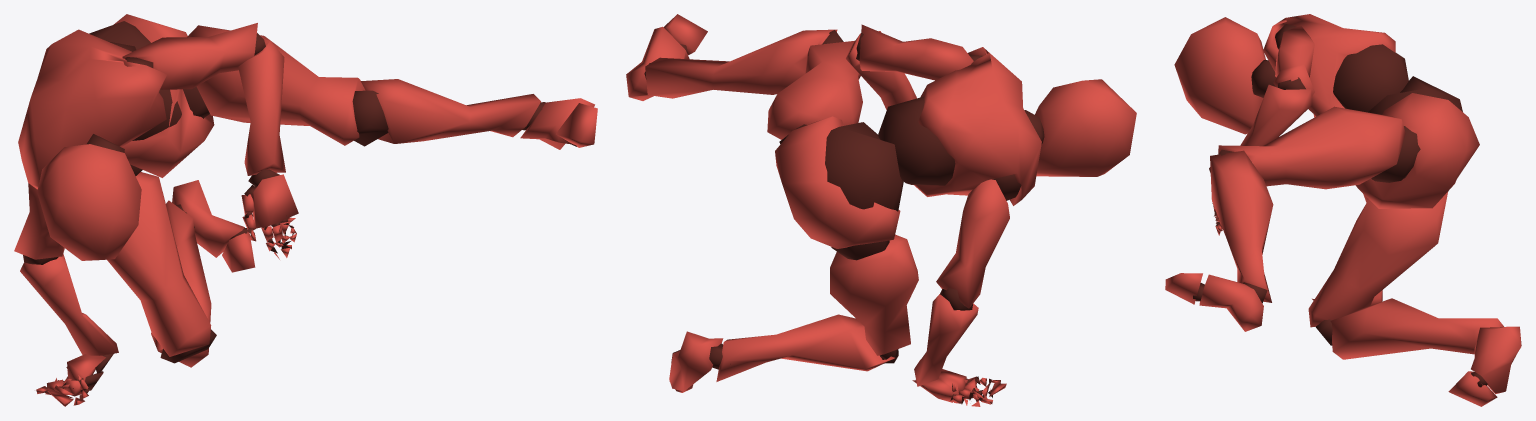
3 views of the same model, side by side, from view 1: azimuth 30°, elevation 25°; view 2: azimuth 150°, elevation 25°; view 3: azimuth 270°, elevation 25° (orthographic). The views are drawn at different scales.
Visible parts, largest first — view 1: Beta_Surface; view 2: Beta_Surface; view 3: Beta_Surface.
Part boxes in pixels (x1=…): Beta_Surface: x1=14, y1=14, x2=597, y2=406; Beta_Surface: x1=626, y1=14, x2=1136, y2=406; Beta_Surface: x1=1165, y1=14, x2=1521, y2=406.
Bounding box in the file's own units: 13.02 × 8.26 × 8.78.
